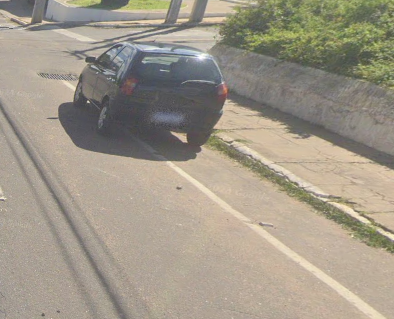car: (67, 31, 231, 166)
